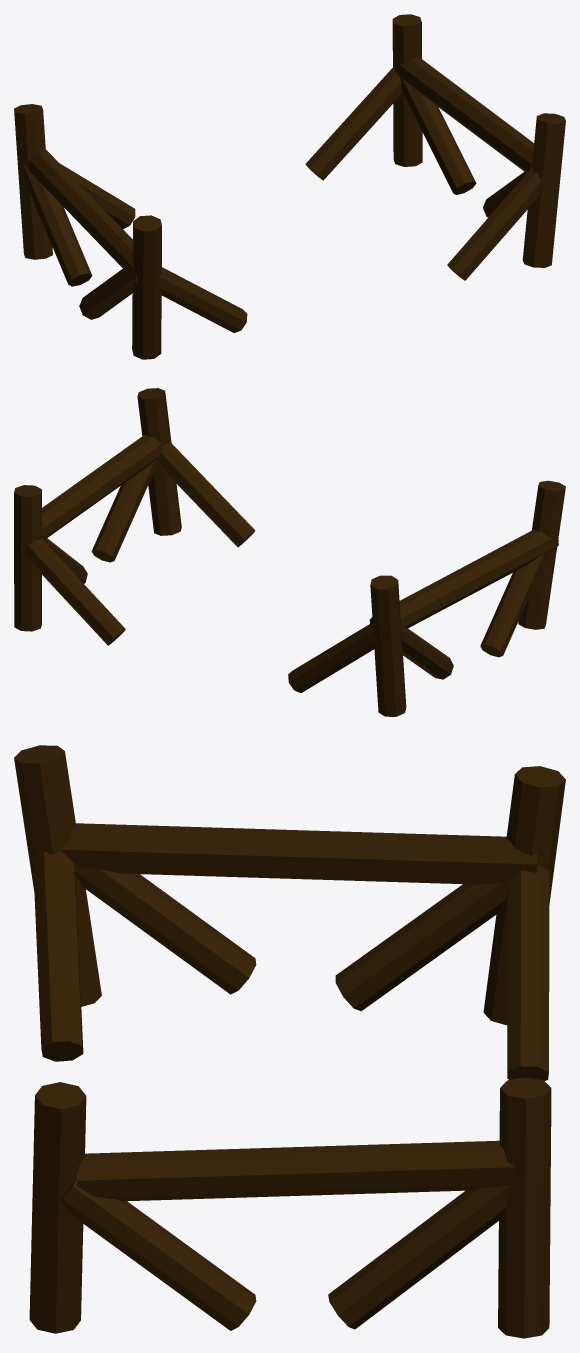
Rendered from Storage.fbx.
3 views of the same model, one above another, from view 1: azimuth 30°, elevation 25°; view 2: azimuth 150°, elevation 25°; view 3: azimuth 270°, elevation 25° (orthographic). The views are drawn at different scales.
Visible parts, largest first — view 1: Storage; view 2: Storage; view 3: Storage.
Part boxes in pixels (<box>): Storage: <box>14,14,565,359</box>; Storage: <box>14,388,565,716</box>; Storage: <box>14,745,565,1338</box>.
Size of the model in its own units: 129 by 40.44 by 83.09.
